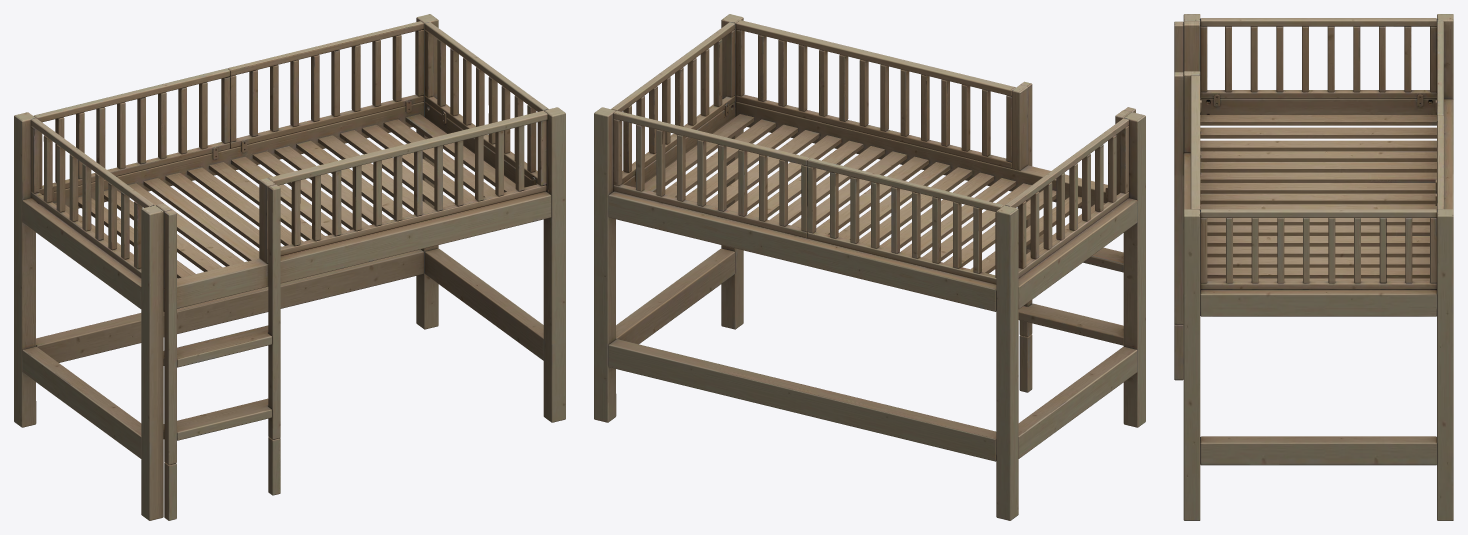
The picture shows the model from 3 angles, left to right: view 1: azimuth 30°, elevation 25°; view 2: azimuth 150°, elevation 25°; view 3: azimuth 270°, elevation 25°; orthographic projection.
Visible parts, largest first — view 1: 160x80; view 2: 160x80; view 3: 160x80.
Part boxes in pixels (x1,y1,x2,y2): 160x80: (14,14,565,520); 160x80: (594,14,1145,520); 160x80: (1174,14,1453,520).
Size of the model in its own units: 1.72 by 1.21 by 1.
Materials: 1 (1 with a texture image).
